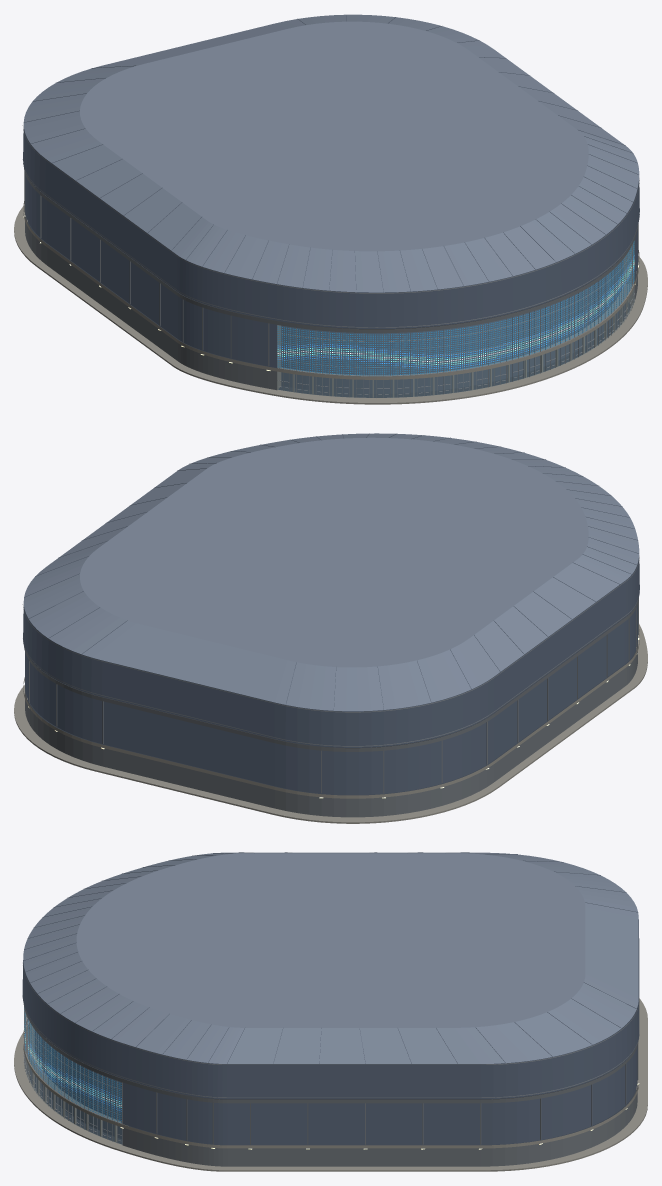
The model's file is shell.glb.
The picture shows the model from 3 angles, top to bottom: view 1: azimuth 30°, elevation 25°; view 2: azimuth 150°, elevation 25°; view 3: azimuth 270°, elevation 25°; orthographic projection. The views are drawn at different scales.
Parts seen in each view (by area): view 1: shell_roof_canopy_main, shell_roof_canopy_fascia, shell_bowl_mass_lobby_depth, shell_bowl_mass_media_glass, shell_bowl_mass_cladding_upper, shell_bowl_mass_plaza_plinth, shell_bowl_mass_lobby_glass, shell_bowl_mass_media_pixels_1, shell_bowl_mass_media_mullions, shell_bowl_mass_cladding_lower, shell_bowl_mass_cladding_brow, shell_bowl_mass_stone_belt (+9 smaller); view 2: shell_roof_canopy_main, shell_bowl_mass_cladding_upper, shell_roof_canopy_fascia, shell_bowl_mass_cladding_lower, shell_bowl_mass_plaza_plinth, shell_bowl_mass_cladding_brow, shell_bowl_mass_stone_belt, shell_roof_canopy_standing_seams, shell_roof_canopy_trim, shell_bowl_mass_cladding_piers, shell_field_floor; view 3: shell_roof_canopy_main, shell_roof_canopy_fascia, shell_bowl_mass_cladding_upper, shell_bowl_mass_cladding_lower, shell_bowl_mass_plaza_plinth, shell_bowl_mass_media_glass, shell_bowl_mass_lobby_depth, shell_bowl_mass_cladding_brow, shell_bowl_mass_stone_belt, shell_roof_canopy_standing_seams, shell_bowl_mass_media_mullions, shell_bowl_mass_media_pixels_1 (+8 smaller).
Boxes of the visible parts, <box> form: shell_roof_canopy_main: <box>23,14,639,292</box>; shell_roof_canopy_fascia: <box>23,125,639,328</box>; shell_bowl_mass_lobby_depth: <box>281,260,623,393</box>; shell_bowl_mass_media_glass: <box>277,244,634,376</box>; shell_bowl_mass_cladding_upper: <box>25,175,637,367</box>; shell_bowl_mass_plaza_plinth: <box>14,205,647,404</box>; shell_bowl_mass_lobby_glass: <box>277,291,633,397</box>; shell_bowl_mass_media_pixels_1: <box>277,241,634,375</box>; shell_bowl_mass_media_mullions: <box>277,243,634,376</box>; shell_bowl_mass_cladding_lower: <box>25,212,637,390</box>; shell_bowl_mass_cladding_brow: <box>24,168,638,333</box>; shell_bowl_mass_stone_belt: <box>23,201,639,379</box>; shell_roof_canopy_main: <box>23,433,639,711</box>; shell_bowl_mass_cladding_upper: <box>25,604,637,794</box>; shell_roof_canopy_fascia: <box>23,555,639,747</box>; shell_bowl_mass_cladding_lower: <box>25,642,637,817</box>; shell_bowl_mass_plaza_plinth: <box>14,624,647,823</box>; shell_bowl_mass_cladding_brow: <box>24,598,638,751</box>; shell_bowl_mass_stone_belt: <box>23,629,639,798</box>; shell_roof_canopy_standing_seams: <box>24,433,638,710</box>; shell_roof_canopy_trim: <box>22,561,639,746</box>; shell_bowl_mass_cladding_piers: <box>29,599,638,793</box>; shell_field_floor: <box>28,650,635,795</box>; shell_roof_canopy_main: <box>23,852,638,1063</box>; shell_roof_canopy_fascia: <box>22,919,639,1099</box>; shell_bowl_mass_cladding_upper: <box>123,1046,637,1145</box>; shell_bowl_mass_cladding_lower: <box>122,1082,637,1166</box>; shell_bowl_mass_plaza_plinth: <box>14,998,647,1171</box>; shell_bowl_mass_media_glass: <box>25,1016,121,1123</box>; shell_bowl_mass_lobby_depth: <box>35,1030,122,1138</box>; shell_bowl_mass_cladding_brow: <box>23,1004,638,1103</box>; shell_bowl_mass_stone_belt: <box>23,1019,638,1148</box>; shell_roof_canopy_standing_seams: <box>23,852,637,1063</box>; shell_bowl_mass_media_mullions: <box>24,1007,122,1124</box>; shell_bowl_mass_media_pixels_1: <box>24,1008,121,1122</box>.
Size of the model in its own units: 134 by 35.3 by 165.
